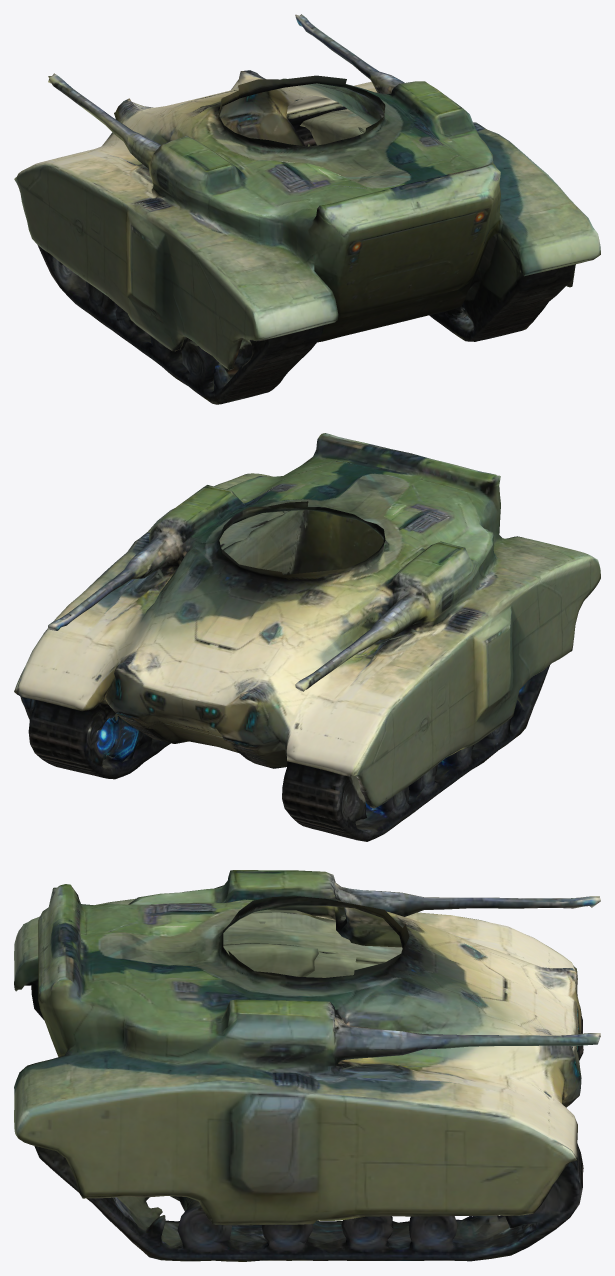
File: tank1_base.glb
3 renders of one model, top to bottom at view 1: azimuth 30°, elevation 25°; view 2: azimuth 150°, elevation 25°; view 3: azimuth 270°, elevation 25°, orthographic. The views are drawn at different scales.
Parts seen in each view (by area): view 1: Mesh_0; view 2: Mesh_0; view 3: Mesh_0.
Boxes of the visible parts, x1,y1,x2,y2 form: Mesh_0: (14, 14, 600, 404); Mesh_0: (14, 433, 600, 841); Mesh_0: (14, 870, 600, 1261).
Size of the model in its own units: 3.14 by 1.79 by 3.89.
1 material, 1 textured.
